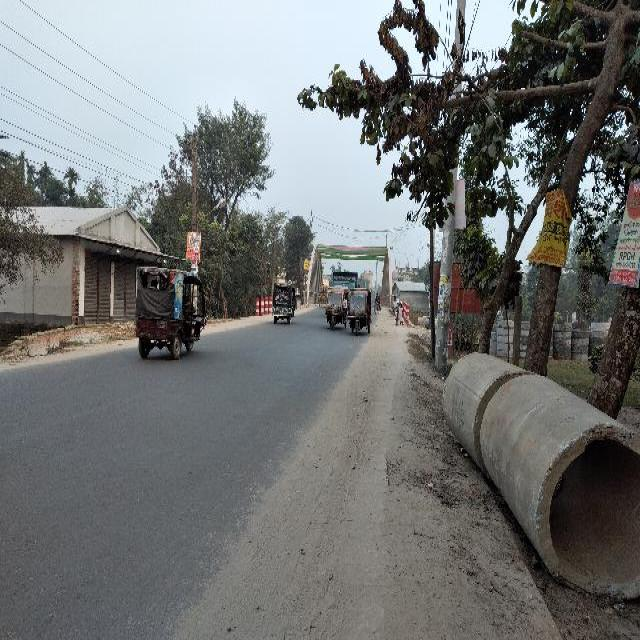11: (331, 269, 359, 286)
13: (318, 284, 326, 305)
Car: (132, 264, 202, 360), (348, 288, 372, 336), (325, 285, 347, 331), (272, 283, 296, 325)
Motorcycle: (374, 299, 380, 314)
